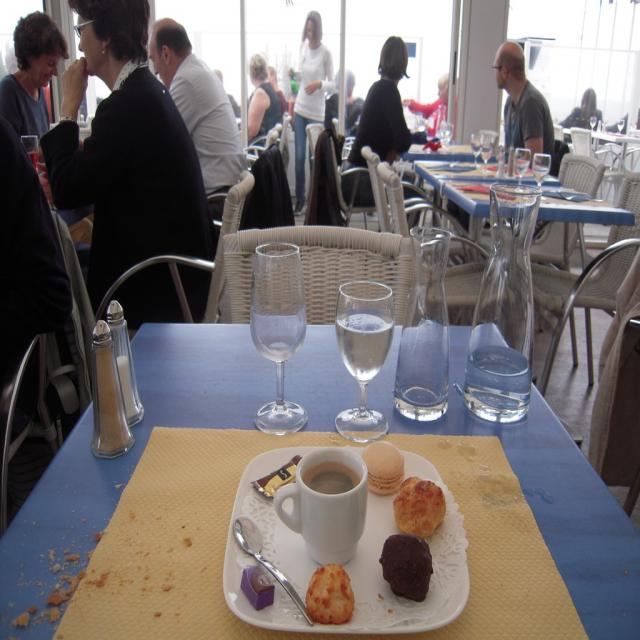Coffee: (278, 454, 372, 568)
Tea: (304, 467, 359, 492)
